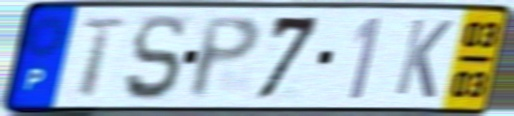1: (348, 14, 384, 103)
7: (251, 13, 324, 103)
K: (391, 16, 456, 102)
P: (186, 13, 264, 104)
S: (121, 11, 188, 104)
T: (77, 15, 129, 100)
